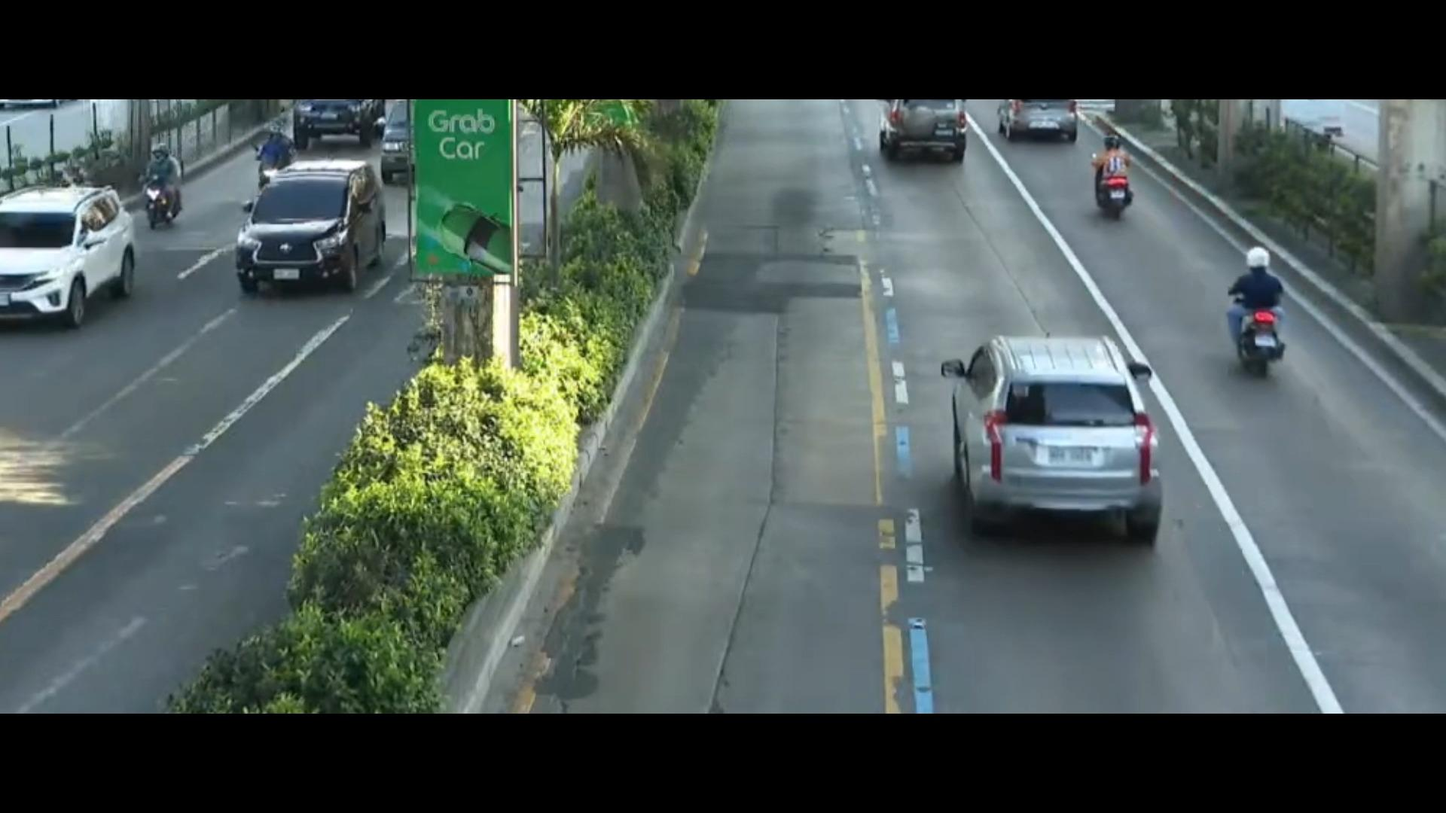Motorcycle: (1208, 244, 1313, 398), (1074, 113, 1168, 242), (133, 123, 194, 240), (250, 113, 312, 183)
SUV: (916, 313, 1190, 579), (218, 149, 400, 296), (0, 176, 141, 334)
